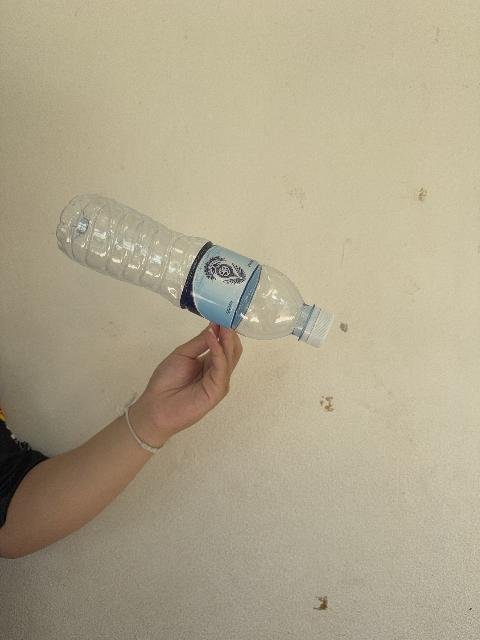bottle: (56, 195, 332, 346)
